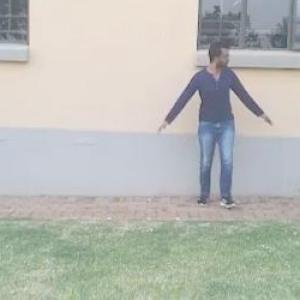land: (150, 31, 264, 223)
